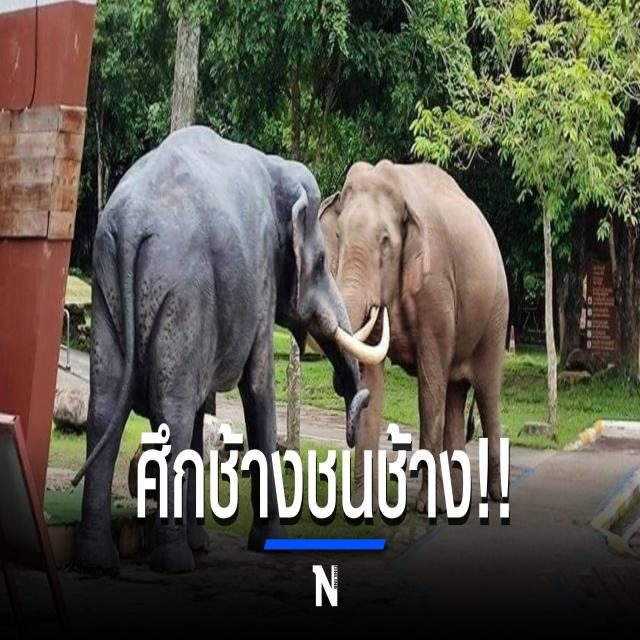Elephant: (79, 113, 348, 539), (319, 160, 525, 492)
